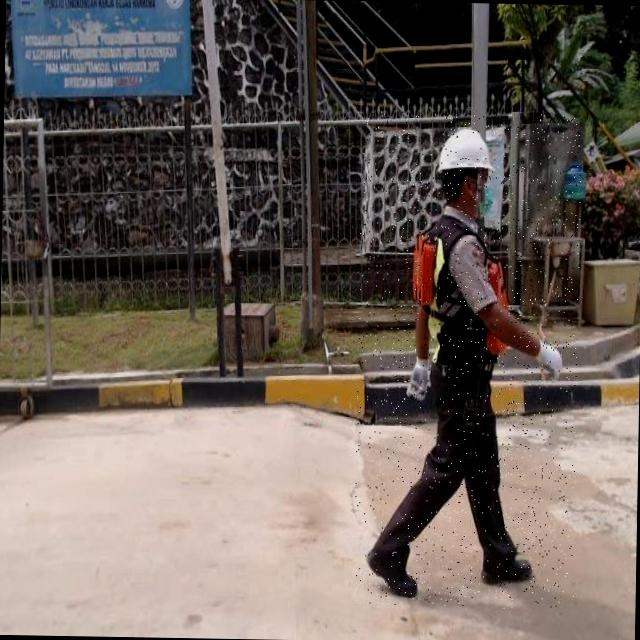boots: (365, 537, 422, 602), (479, 550, 539, 593)
gloves: (392, 326, 451, 435), (506, 314, 586, 382)
helmet: (438, 124, 496, 182)
vest: (409, 214, 513, 364)
